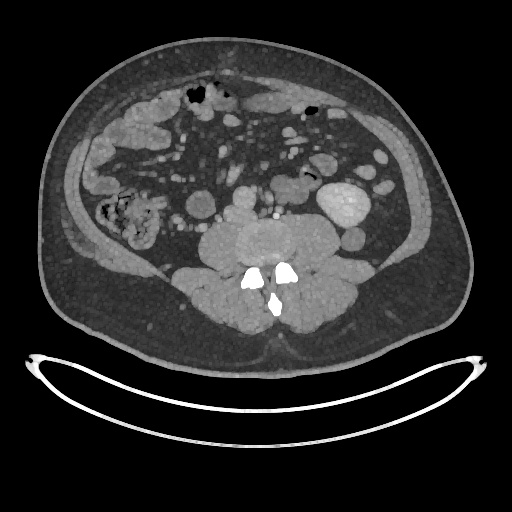Lesion: (339, 226, 369, 251)
